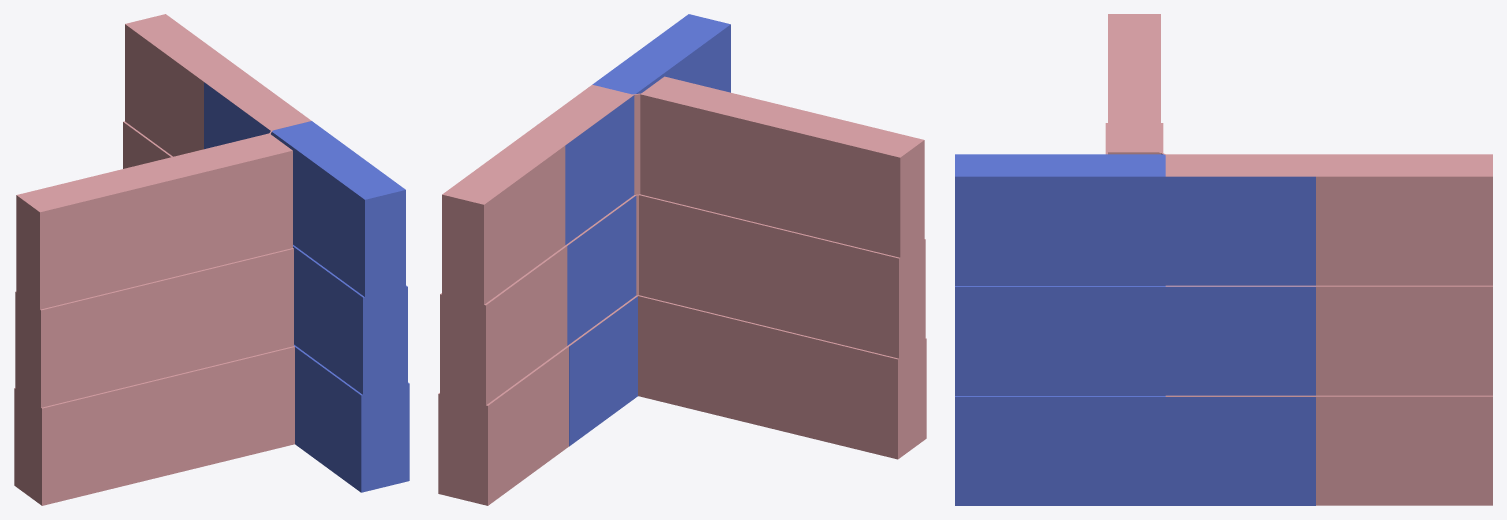
Rendered from Walls_Style_2_V2.fbx.
3 views of the same model, side by side, from view 1: azimuth 30°, elevation 25°; view 2: azimuth 150°, elevation 25°; view 3: azimuth 270°, elevation 25° (orthographic). The views are drawn at different scales.
Parts seen in each view (by area): view 1: Wall Style 2 Corner_V2, Wall Style 2_V2; view 2: Wall Style 2 Corner_V2, Wall Style 2_V2; view 3: Wall Style 2_V2, Wall Style 2 Corner_V2.
Boxes of the visible parts, x1,y1,x2,y2 form: Wall Style 2 Corner_V2: (14,14,311,505); Wall Style 2_V2: (204,82,409,492); Wall Style 2 Corner_V2: (438,76,926,505); Wall Style 2_V2: (565,14,730,446); Wall Style 2_V2: (955,154,1315,505); Wall Style 2 Corner_V2: (1105,14,1492,505).
Size of the model in its own units: 108 by 100 by 149.
